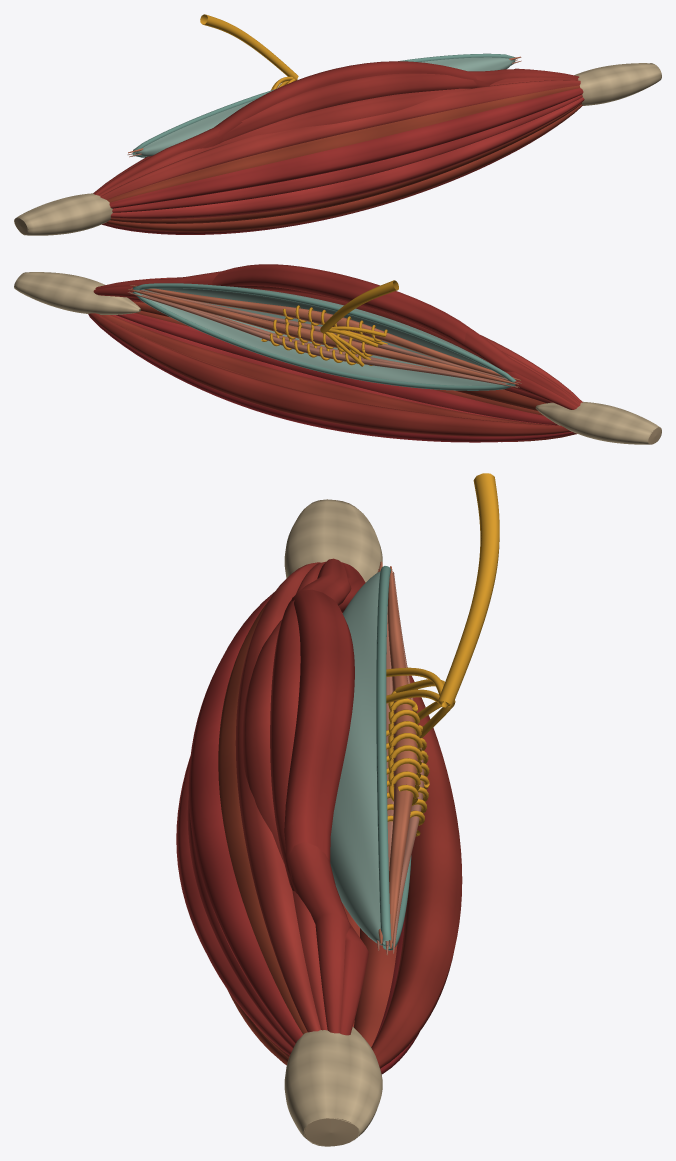
File: muscle-spindle.glb
The picture shows the model from 3 angles, top to bottom: view 1: azimuth 30°, elevation 25°; view 2: azimuth 150°, elevation 25°; view 3: azimuth 270°, elevation 25°; orthographic projection. The views are drawn at different scales.
Visible parts, largest first — view 1: Muscle bundle 6, Muscle bundle 4, Muscle bundle 2, Muscle bundle 8, Muscle bundle 5, Muscle bundle 7, Muscle bundle 10, Muscle bundle 3, Muscle bundle 1, Left tendon, Right tendon, Muscle bundle 9 (+4 smaller); view 2: Muscle bundle 17, Muscle bundle 1, Spindle capsule, back cutaway, Muscle bundle 13, Muscle bundle 11, Right tendon, Left tendon, Muscle bundle 16, Muscle bundle 2, Intrafusal fibre 2, Intrafusal fibre 1, Cut capsule margin 2 (+13 smaller); view 3: Muscle bundle 1, Muscle bundle 17, Spindle capsule, back cutaway, Muscle bundle 2, Muscle bundle 6, Muscle bundle 4, Right tendon, Muscle bundle 3, Muscle bundle 5, Left tendon, Group Ia sensory axon, Muscle bundle 8 (+7 smaller).
Part boxes in pixels (x1=…): Muscle bundle 6: x1=109, y1=88, x2=583, y2=208; Muscle bundle 4: x1=100, y1=80, x2=580, y2=199; Muscle bundle 2: x1=94, y1=69, x2=579, y2=195; Muscle bundle 8: x1=110, y1=97, x2=584, y2=219; Muscle bundle 5: x1=107, y1=85, x2=580, y2=202; Muscle bundle 7: x1=112, y1=94, x2=582, y2=212; Muscle bundle 10: x1=105, y1=104, x2=582, y2=232; Muscle bundle 3: x1=98, y1=77, x2=578, y2=196; Muscle bundle 1: x1=93, y1=61, x2=557, y2=193; Left tendon: x1=14, y1=193, x2=112, y2=235; Right tendon: x1=574, y1=63, x2=661, y2=105; Muscle bundle 9: x1=110, y1=102, x2=581, y2=223; Muscle bundle 17: x1=88, y1=313, x2=571, y2=436; Muscle bundle 1: x1=93, y1=264, x2=577, y2=409; Spindle capsule, back cutaway: x1=138, y1=285, x2=514, y2=385; Muscle bundle 13: x1=101, y1=315, x2=551, y2=425; Muscle bundle 11: x1=116, y1=313, x2=558, y2=425; Right tendon: x1=14, y1=272, x2=140, y2=314; Left tendon: x1=535, y1=401, x2=661, y2=444; Muscle bundle 16: x1=88, y1=314, x2=574, y2=442; Muscle bundle 2: x1=95, y1=271, x2=580, y2=406; Intrafusal fibre 2: x1=128, y1=289, x2=518, y2=384; Intrafusal fibre 1: x1=130, y1=285, x2=520, y2=380; Cut capsule margin 2: x1=132, y1=291, x2=515, y2=390; Muscle bundle 1: x1=284, y1=562, x2=368, y2=1035; Muscle bundle 17: x1=371, y1=675, x2=462, y2=1068; Spindle capsule, back cutaway: x1=330, y1=572, x2=389, y2=945; Muscle bundle 2: x1=270, y1=558, x2=351, y2=1033; Muscle bundle 6: x1=188, y1=592, x2=302, y2=1043; Muscle bundle 4: x1=235, y1=562, x2=320, y2=1032; Right tendon: x1=284, y1=1027, x2=382, y2=1146; Muscle bundle 3: x1=242, y1=561, x2=327, y2=1030; Muscle bundle 5: x1=218, y1=601, x2=307, y2=1034; Left tendon: x1=284, y1=499, x2=382, y2=582; Group Ia sensory axon: x1=438, y1=473, x2=499, y2=706; Muscle bundle 8: x1=176, y1=756, x2=292, y2=1055.
Size of the model in its own units: 0.0201 by 0.00567 by 0.00443.
